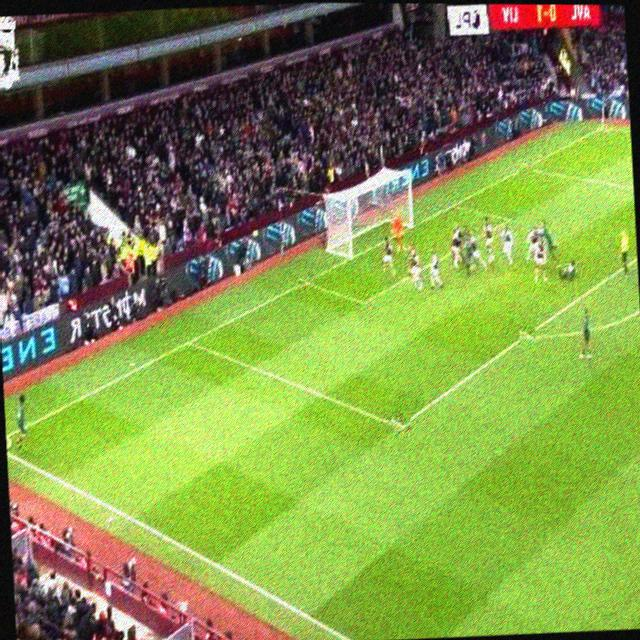bigarea_bottom_inner: (391, 410, 411, 439)
bigarea_bottom_outter: (180, 331, 198, 352)
bigarea_top_outter: (518, 158, 532, 175)
bottom_arc_area_intersection: (518, 323, 536, 345)
corner: (594, 119, 611, 135)
smallarea_bottom_inner: (356, 288, 374, 311)
smallarea_bottom_outter: (298, 271, 314, 289)
smallarea_top_inner: (502, 209, 518, 227)
smallarea_top_outter: (446, 195, 460, 214)
top_arc_area_intersection: (633, 245, 637, 263)
